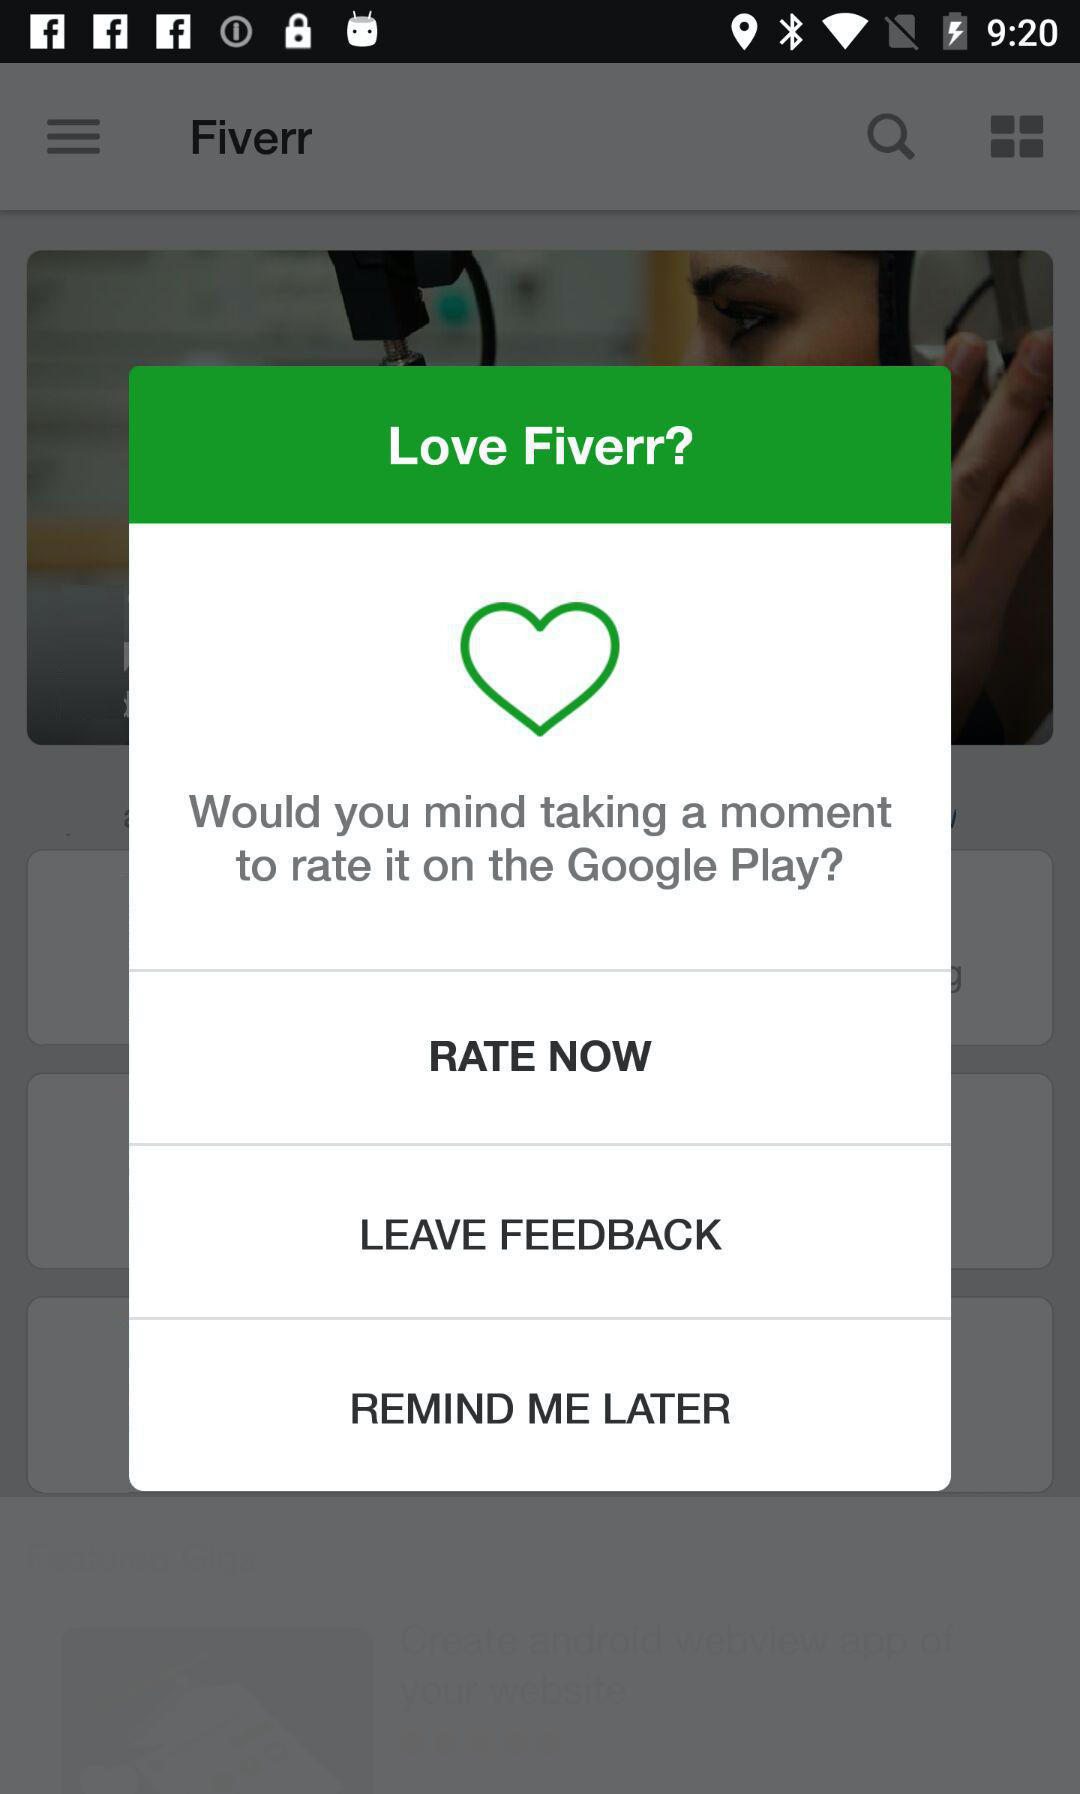Icon: (461, 602, 621, 737), (989, 115, 1044, 160), (867, 113, 916, 163), (46, 119, 101, 158)
Modal: (129, 366, 952, 1492)
Text: (190, 794, 893, 891), (389, 425, 692, 466), (352, 1393, 732, 1425), (363, 1219, 724, 1249), (430, 1041, 653, 1073), (192, 120, 313, 158)
UpperTaskBar: (1, 1, 1080, 64)
